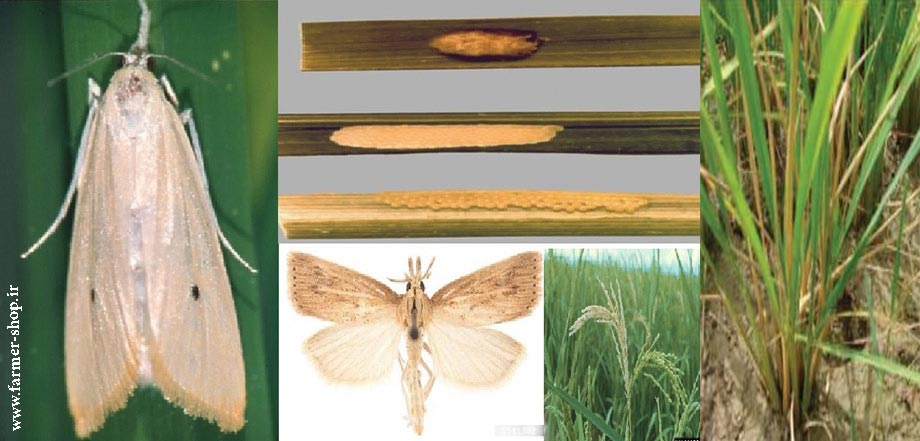Crambidae: (27, 1, 266, 439), (288, 250, 545, 437)
